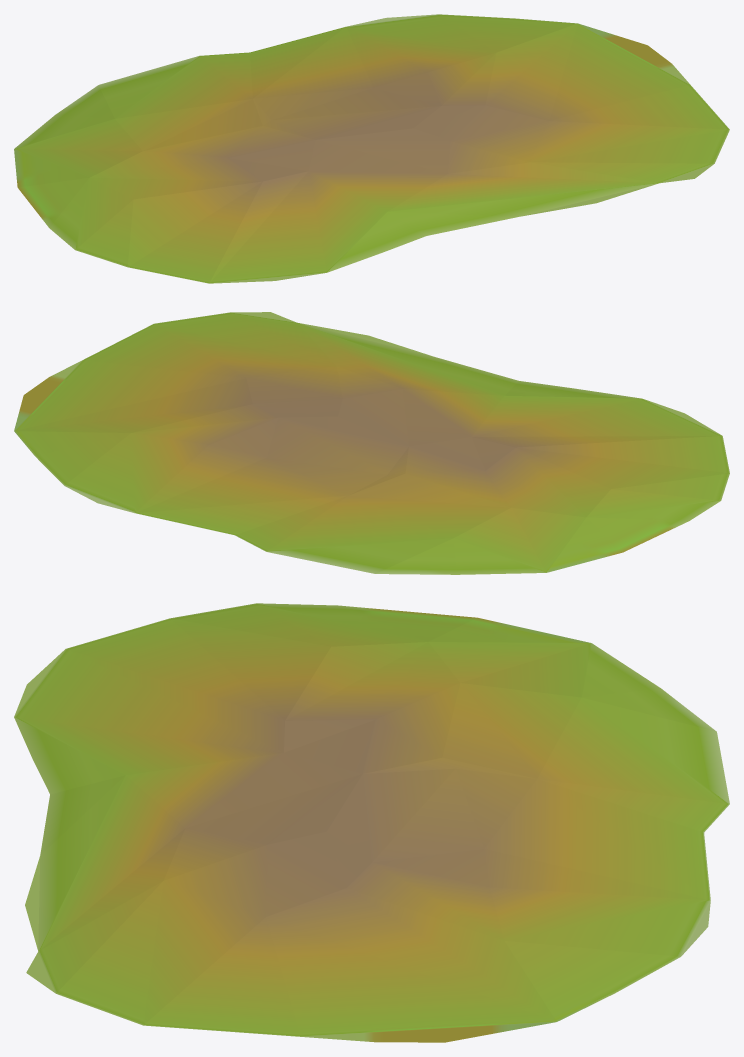
The model's file is muddplane.glb.
3 views of the same model, one above another, from view 1: azimuth 30°, elevation 25°; view 2: azimuth 150°, elevation 25°; view 3: azimuth 270°, elevation 25° (orthographic). The views are drawn at different scales.
Visible parts, largest first — view 1: MuddPlane_mesh1; view 2: MuddPlane_mesh1; view 3: MuddPlane_mesh1.
Boxes of the visible parts, x1,y1,x2,y2 form: MuddPlane_mesh1: (14,14,729,283); MuddPlane_mesh1: (14,312,729,574); MuddPlane_mesh1: (14,603,729,1042).
Size of the model in its own units: 14.47 by 0.3253 by 9.97.
1 material, 1 textured.
